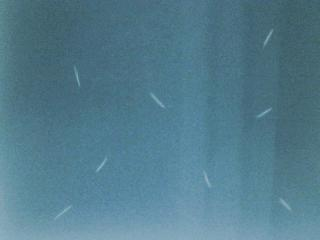scratch: (64, 60, 91, 88), (194, 166, 220, 194), (144, 87, 171, 113), (257, 23, 279, 54), (272, 191, 298, 217), (249, 102, 278, 125), (91, 151, 114, 176), (50, 202, 75, 223)
